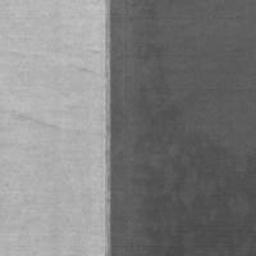Welding line: (104, 0, 111, 256)
